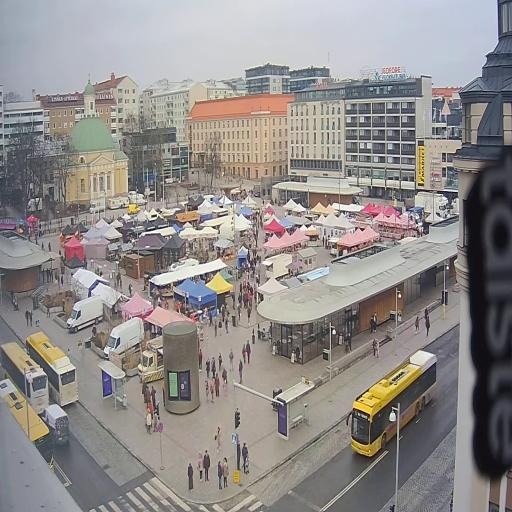bus: (351, 350, 437, 456), (0, 379, 53, 470), (26, 332, 78, 406), (0, 342, 49, 415)
delivery: (103, 317, 144, 359), (67, 296, 103, 332), (138, 336, 163, 383), (41, 403, 69, 444), (415, 192, 450, 218)
